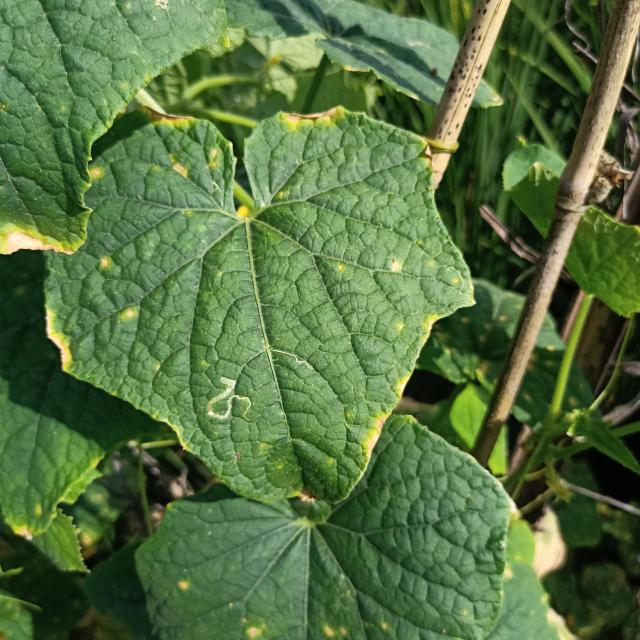disease_cucumber: (168, 144, 226, 187), (395, 314, 446, 336), (121, 305, 137, 319), (389, 259, 402, 276), (98, 256, 110, 270)
